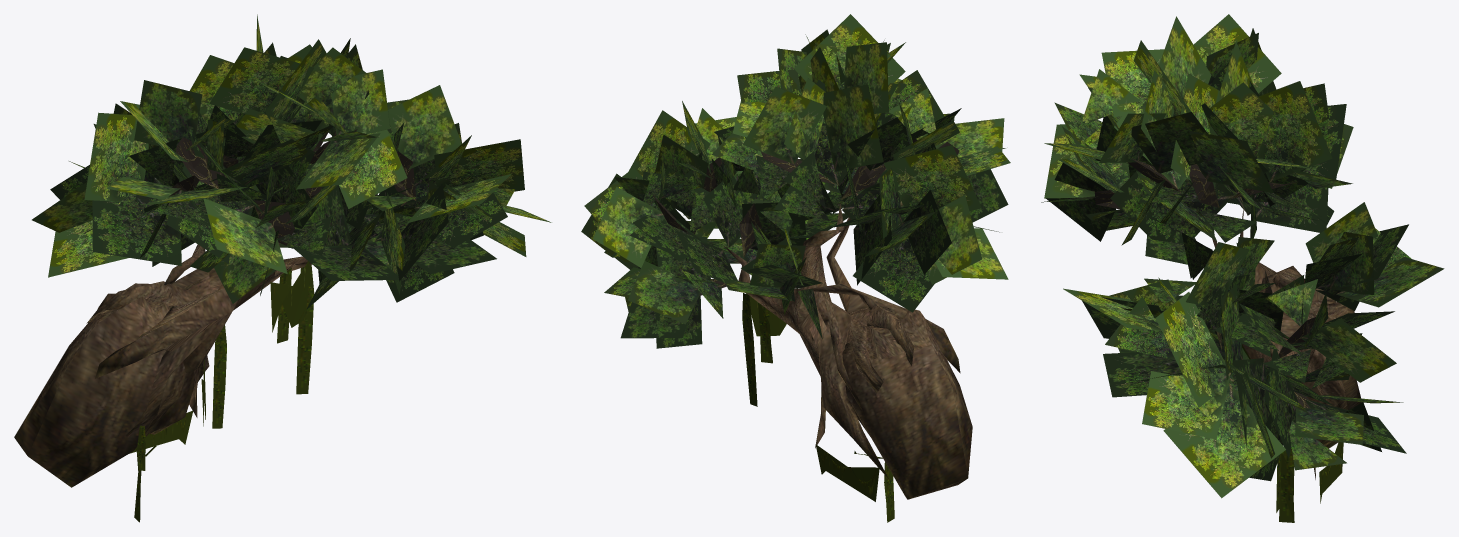
The model's file is d_sd_shu03c_zw.FBX.
3 renders of one model, left to right at view 1: azimuth 30°, elevation 25°; view 2: azimuth 150°, elevation 25°; view 3: azimuth 270°, elevation 25°, orthographic. The views are drawn at different scales.
Visible parts, largest first — view 1: d_sd_shu03c_zw_B04, d_sd_shu03c_zw_A, d_sd_shu03c_zw_B01, d_sd_shu03c_zw_B05; view 2: d_sd_shu03c_zw_B04, d_sd_shu03c_zw_A, d_sd_shu03c_zw_B01, d_sd_shu03c_zw_B05; view 3: d_sd_shu03c_zw_B04, d_sd_shu03c_zw_A, d_sd_shu03c_zw_B05, d_sd_shu03c_zw_B01.
Boxes of the visible parts, bbox=[...] form: d_sd_shu03c_zw_B04: bbox=[32, 14, 551, 309]; d_sd_shu03c_zw_A: bbox=[14, 242, 311, 487]; d_sd_shu03c_zw_B01: bbox=[129, 261, 314, 522]; d_sd_shu03c_zw_B05: bbox=[169, 129, 416, 245]; d_sd_shu03c_zw_B04: bbox=[581, 14, 1010, 348]; d_sd_shu03c_zw_A: bbox=[723, 204, 972, 499]; d_sd_shu03c_zw_B01: bbox=[742, 293, 894, 522]; d_sd_shu03c_zw_B05: bbox=[653, 138, 959, 295]; d_sd_shu03c_zw_B04: bbox=[1041, 14, 1444, 498]; d_sd_shu03c_zw_A: bbox=[1212, 208, 1361, 479]; d_sd_shu03c_zw_B05: bbox=[1094, 157, 1315, 408]; d_sd_shu03c_zw_B01: bbox=[1242, 344, 1343, 522].
Bounding box in the file's own units: 1433 × 1459 × 988.
